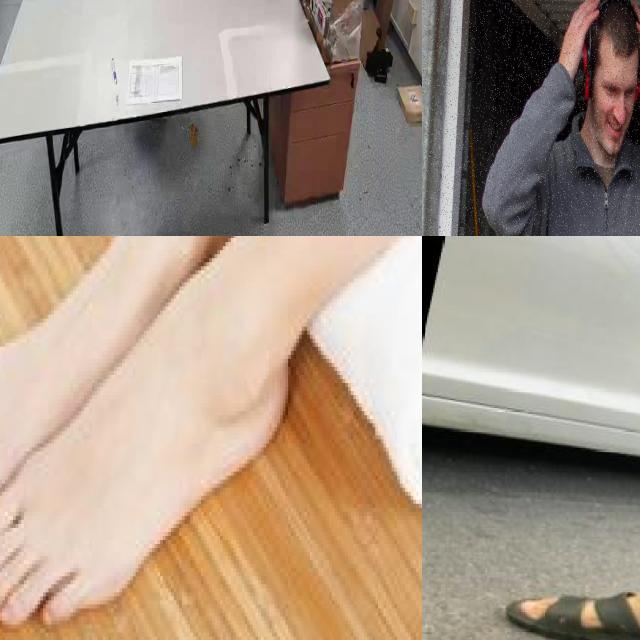Barefoots: (0, 318, 292, 625)
No_Glasses: (599, 74, 637, 101)
Sandals: (503, 538, 640, 640)
face_nomask: (596, 99, 634, 156)
hand_noglove: (559, 0, 599, 79)
head_nohelmet: (586, 0, 639, 95)
